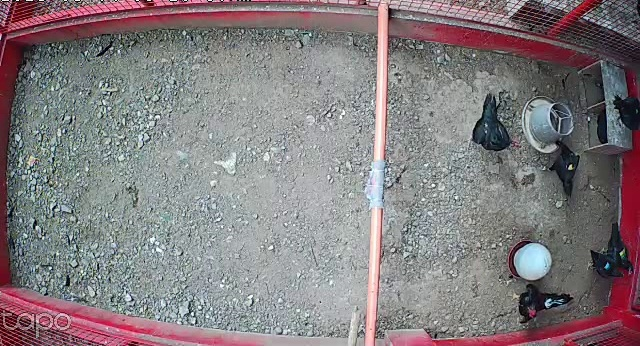Chicken: (462, 90, 524, 159), (540, 134, 584, 202), (597, 219, 636, 276), (582, 246, 625, 281)
Rooster: (508, 281, 577, 325)
Saddle_Color_Blue: (604, 262, 611, 271)
Saddle_Color_Yellow: (567, 162, 575, 171)
Saddle_Color_YellowGreen: (619, 247, 626, 259)
